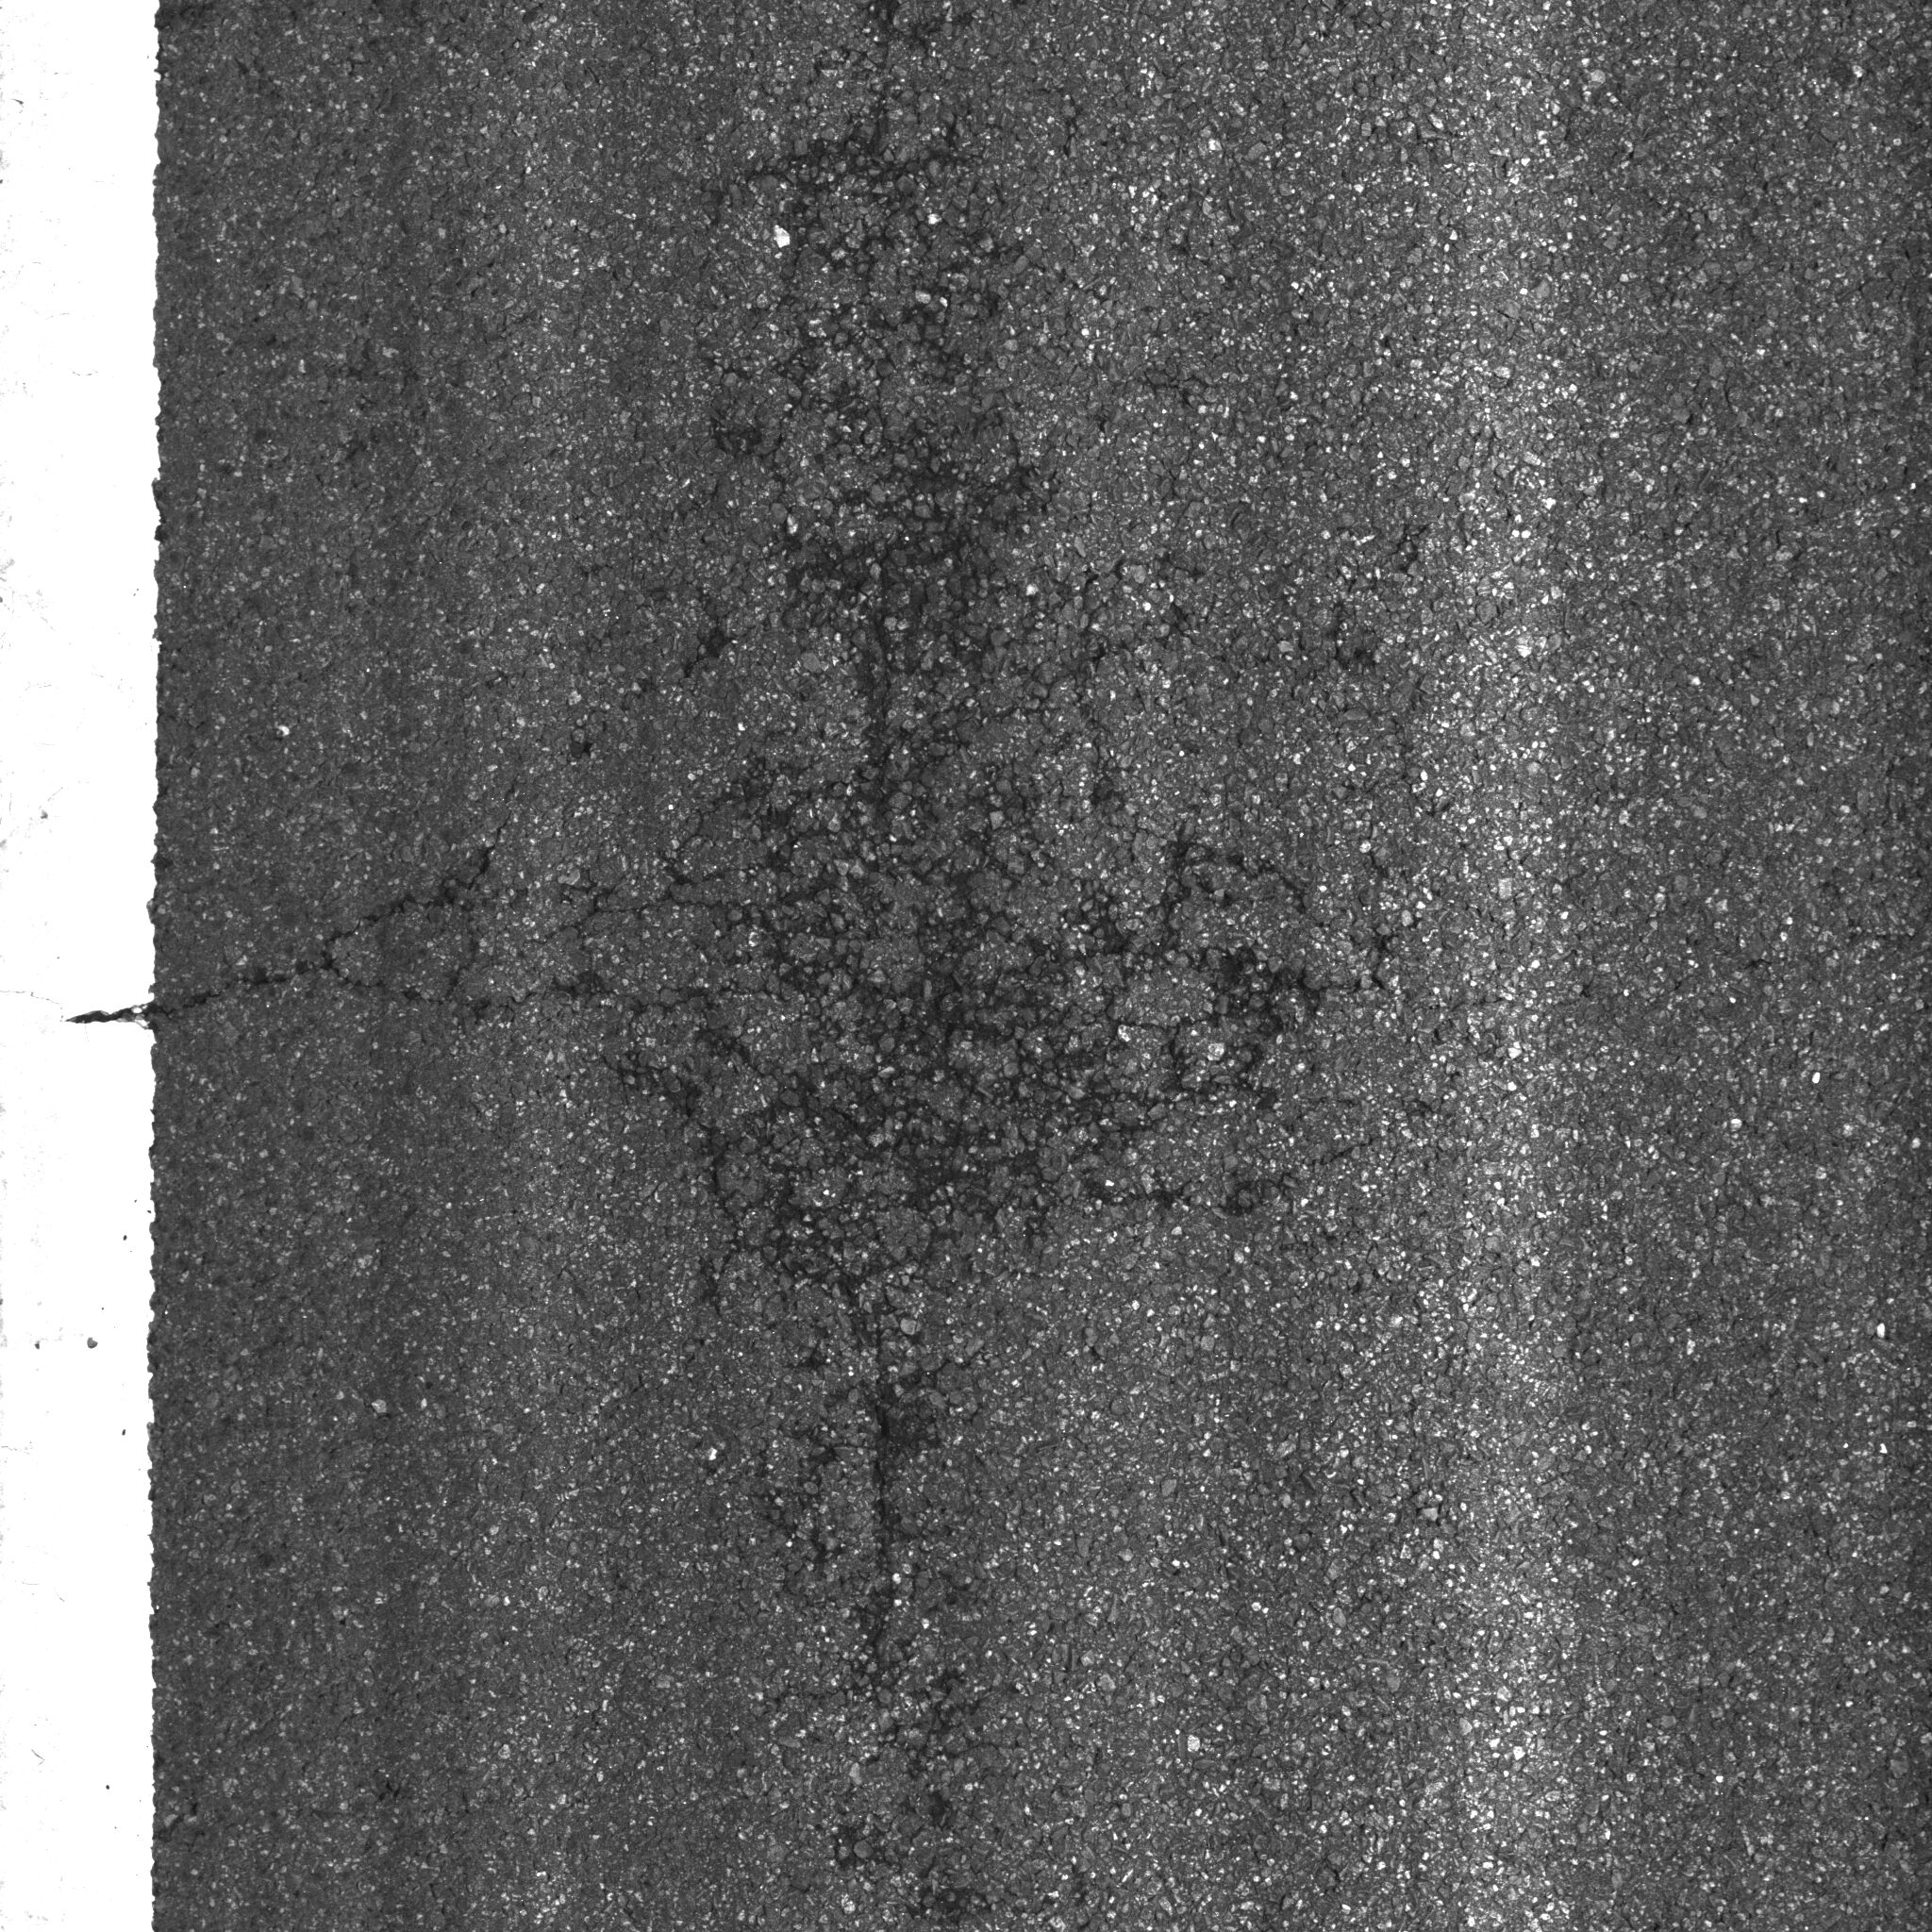alligator: (165, 103, 1458, 1792)
